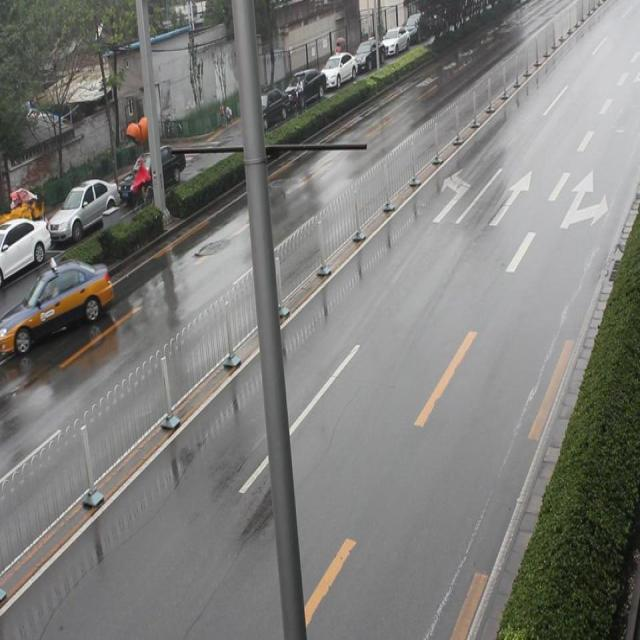car: (1, 256, 111, 364)
